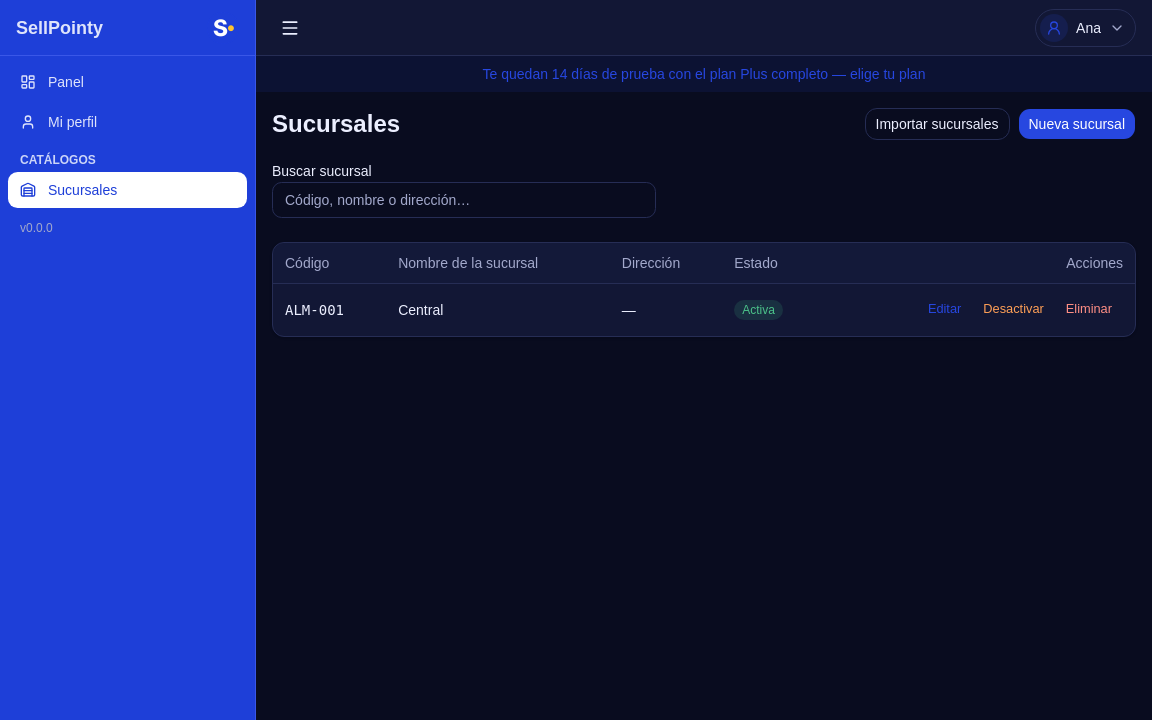
Test: Eliminar una sucursal (2026-08-25) › recién al confirmar se borra
The image size is (1152, 720).
Check: the text "Central" is shown, box [386,283,610,336]
Step 1. Click the button "Eliminar" → coordinates (1089, 310), box [1055,296,1123,324]
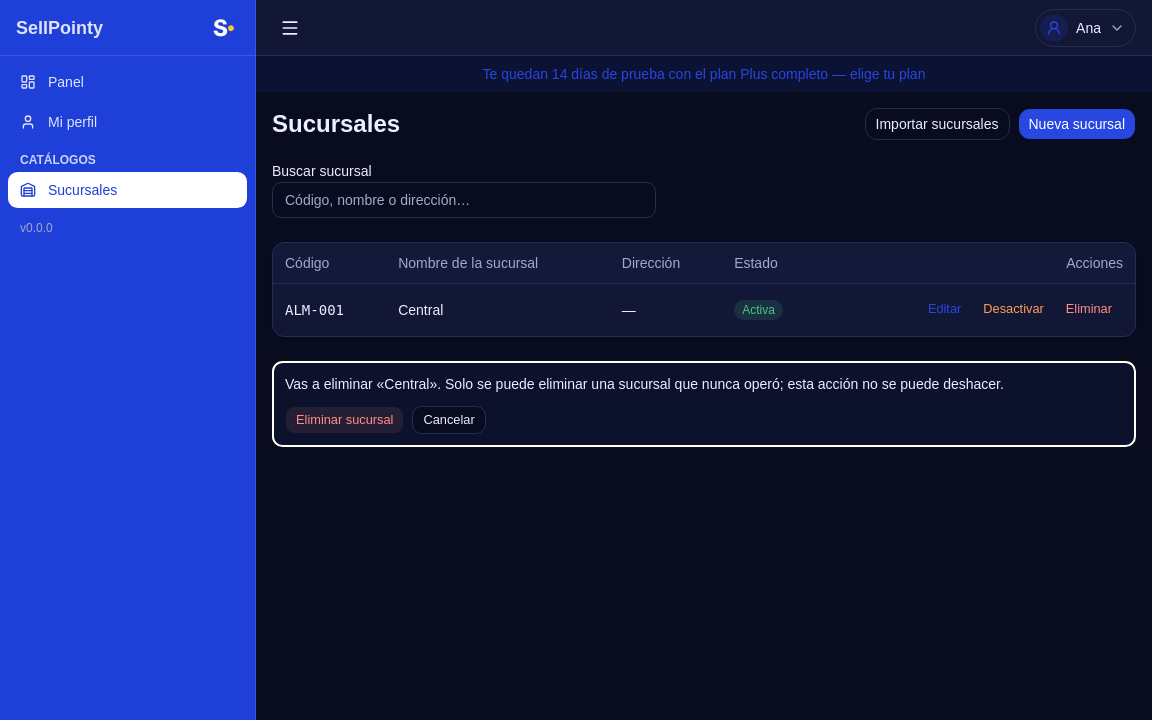
Step 2. Click the button "Eliminar sucursal" → coordinates (345, 420), box [285,406,404,434]
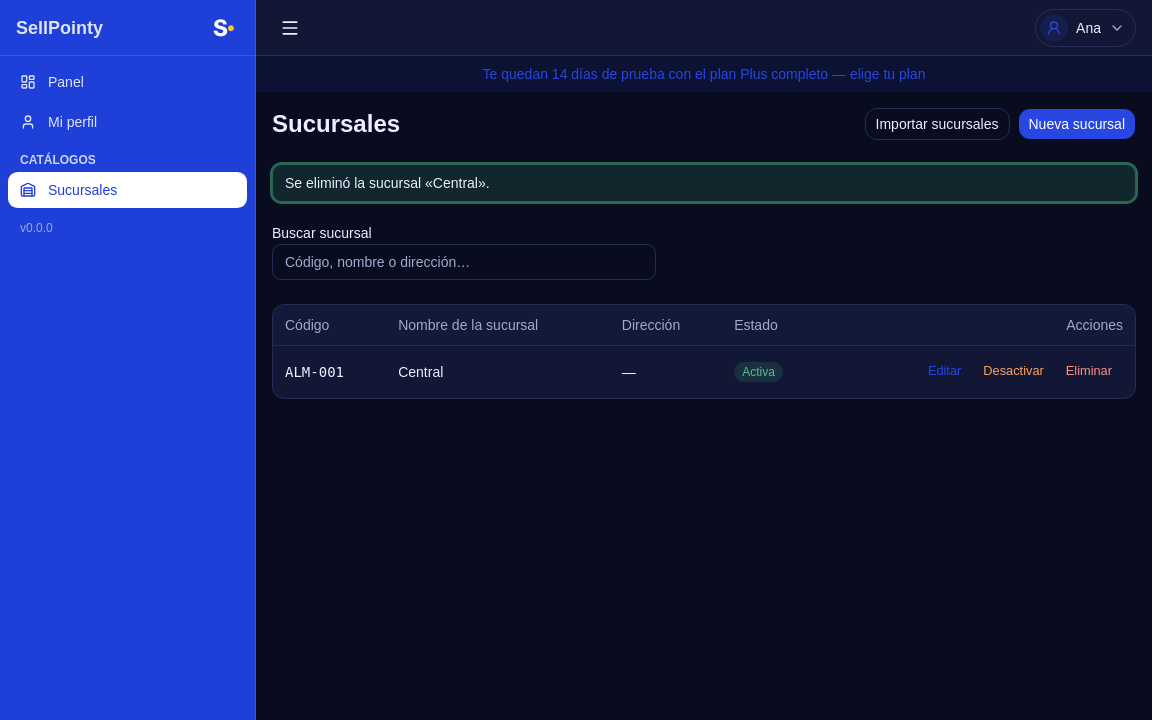
Check: the message with test id "warehouse-deleted" reads "Se eliminó la sucursal «Central».", box [285,175,490,191]
